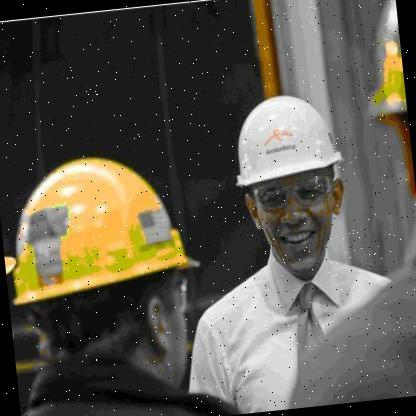capacete: (0, 143, 208, 313), (221, 82, 356, 194)
oculos: (236, 172, 348, 215)
